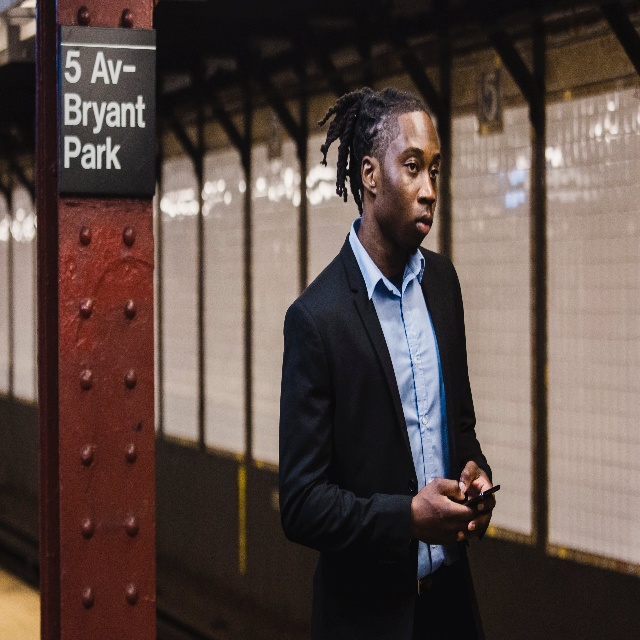Sin_guantes: (412, 476, 473, 542), (454, 457, 495, 541)
